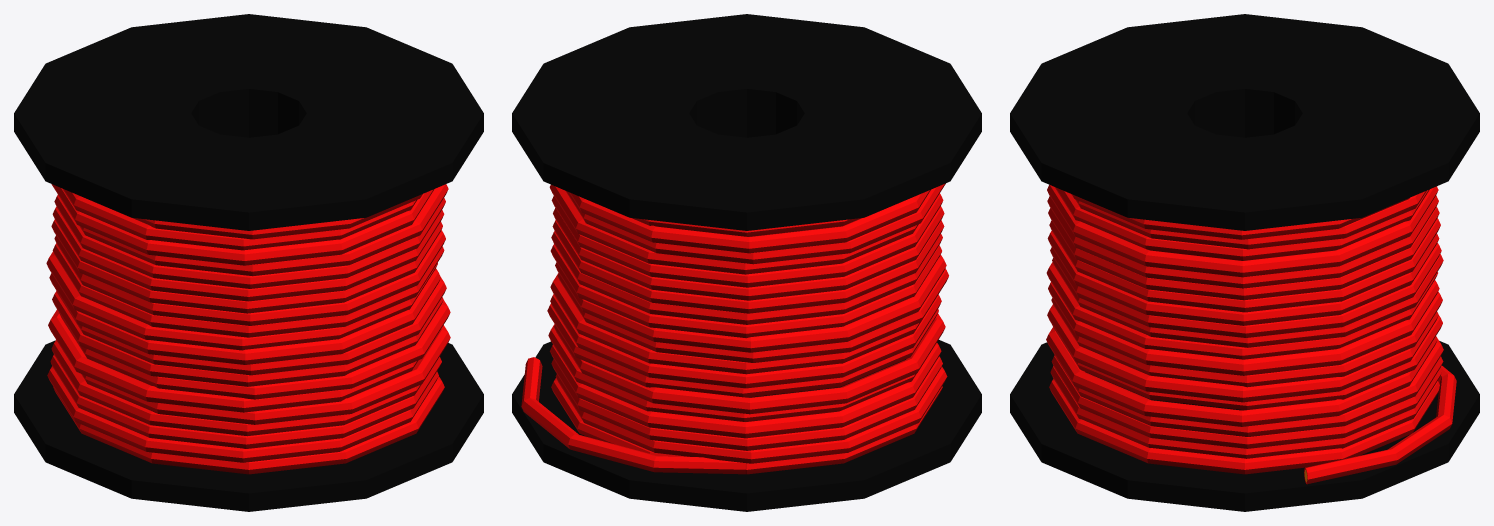
The model's file is SM_Int_Wire_01.fbx.
The picture shows the model from 3 angles, left to right: view 1: azimuth 30°, elevation 25°; view 2: azimuth 150°, elevation 25°; view 3: azimuth 270°, elevation 25°; orthographic projection.
Parts seen in each view (by area): view 1: SM_Int_Wire; view 2: SM_Int_Wire; view 3: SM_Int_Wire.
Part boxes in pixels (x1=…): SM_Int_Wire: x1=14, y1=14, x2=483, y2=511; SM_Int_Wire: x1=512, y1=14, x2=981, y2=511; SM_Int_Wire: x1=1010, y1=14, x2=1479, y2=511.
Bounding box in the file's own units: 0.4958 × 0.3485 × 0.4958.
